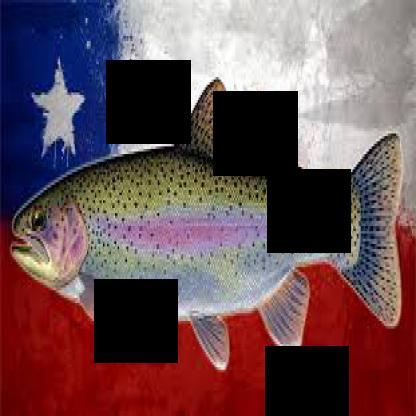fish: (8, 74, 402, 372)
